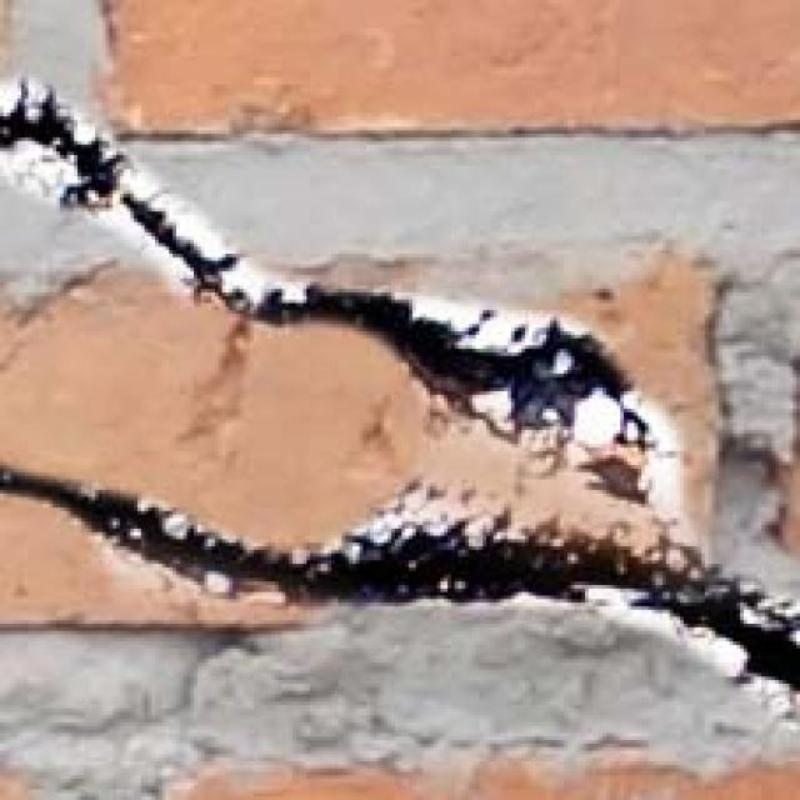pothole: (0, 83, 648, 502), (0, 468, 800, 690)
